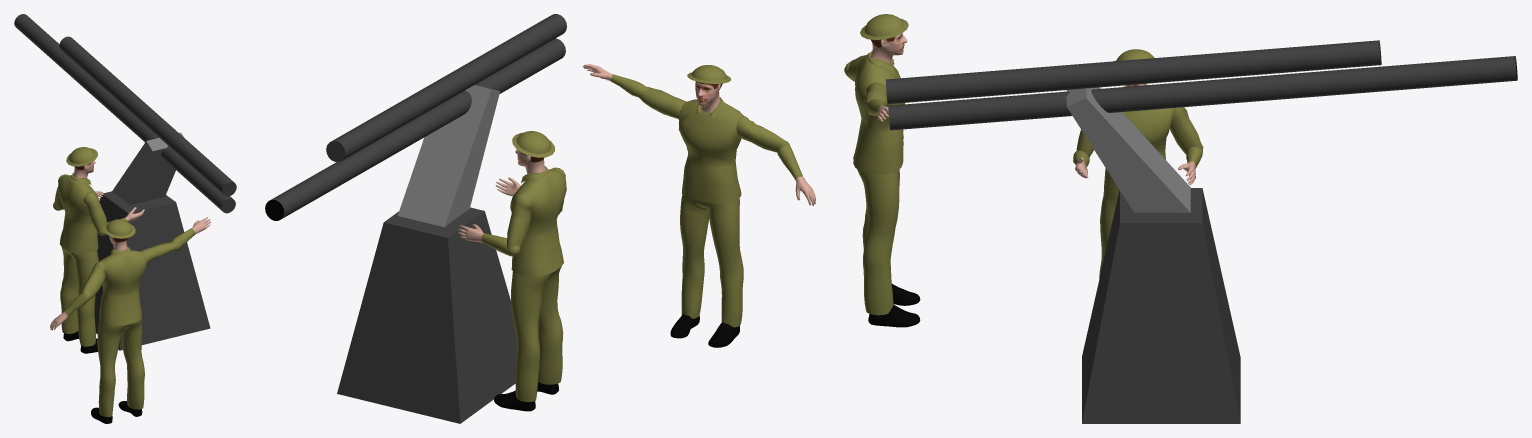
The model's file is gunAA_crew.glb.
3 renders of one model, left to right at view 1: azimuth 30°, elevation 25°; view 2: azimuth 150°, elevation 25°; view 3: azimuth 270°, elevation 25°, orthographic. The views are drawn at different scales.
Visible parts, largest first — view 1: base, barrel, crew1, crew2, rotator, armR.001, helmet, armL.010, helmet.001, armL2.010, armR2.010, armR.010 (+3 smaller); view 2: base, barrel, crew1, crew2, rotator, armL.001, shoes.010, armL.010, helmet.001, armR.010, armL2.010, armL2.001 (+4 smaller); view 3: base, barrel, crew1, rotator, crew2, shoes.010, helmet, armL.001, head.010.
Part boxes in pixels (x1,y1,x2,y2): base: (94,191,210,350); barrel: (14,14,236,213); crew1: (97,250,146,417); crew2: (58,175,99,346); rotator: (112,132,183,204); armR.001: (83,191,106,233); helmet: (103,219,135,238); armL.010: (81,261,105,298); helmet.001: (66,147,97,166); armL2.010: (50,292,91,330); armR2.010: (171,217,210,251); armR.010: (141,241,176,264); base: (337,207,516,423); barrel: (265,14,566,220); crew1: (678,99,743,327); crew2: (510,169,566,402); rotator: (397,85,499,227); armL.001: (507,193,532,249); shoes.010: (670,314,739,347); armL.010: (736,115,786,152); helmet.001: (512,131,554,157); armR.010: (640,86,686,119); armL2.010: (777,141,815,205); armL2.001: (458,224,519,256); base: (1082,188,1240,423); barrel: (886,40,1517,130); crew1: (853,53,904,315); rotator: (1066,87,1190,212); crew2: (1099,108,1172,278); shoes.010: (868,284,920,327); helmet: (860,14,908,40); armL.001: (1169,107,1203,154); head.010: (870,33,907,63).
Size of the model in its own units: 2.9 by 2.83 by 4.88.
8 materials, 1 textured.
